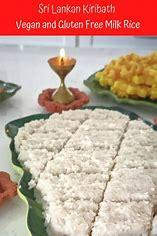Kiribath: (15, 105, 152, 232)
